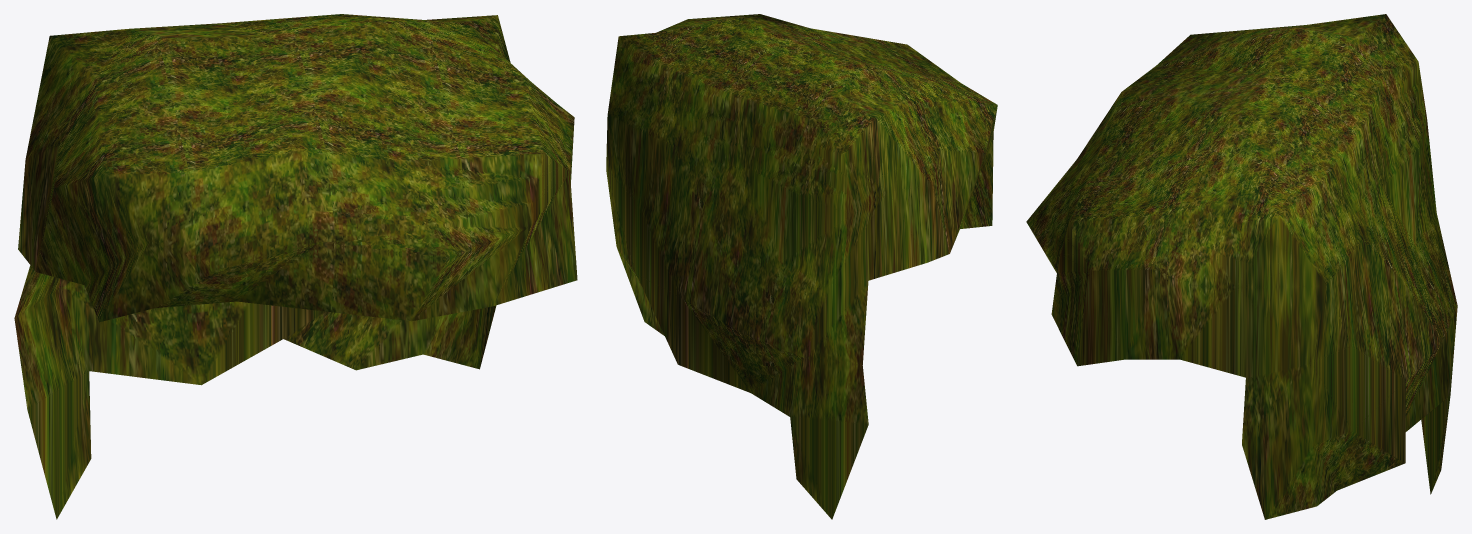
File: TROLLHOLE02_RM_PSURF97.fbx
3 renders of one model, left to right at view 1: azimuth 30°, elevation 25°; view 2: azimuth 150°, elevation 25°; view 3: azimuth 270°, elevation 25°, orthographic. The views are drawn at different scales.
Parts seen in each view (by area): view 1: TROLLHOLE02_RM_PSURF97; view 2: TROLLHOLE02_RM_PSURF97; view 3: TROLLHOLE02_RM_PSURF97.
Boxes of the visible parts, x1=… form: TROLLHOLE02_RM_PSURF97: x1=14, y1=14, x2=577, y2=519; TROLLHOLE02_RM_PSURF97: x1=606, y1=14, x2=997, y2=519; TROLLHOLE02_RM_PSURF97: x1=1026, y1=14, x2=1457, y2=519.
Size of the model in its own units: 102423 by 108313 by 87599.
Materials: 1 (1 with a texture image).
